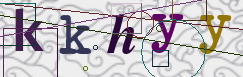h: (106, 13, 136, 56)
k: (59, 13, 92, 56), (14, 8, 44, 53)
y: (150, 12, 185, 54), (198, 13, 233, 54)
